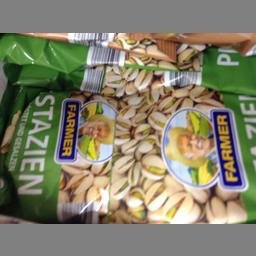nuts: (0, 86, 255, 222)
